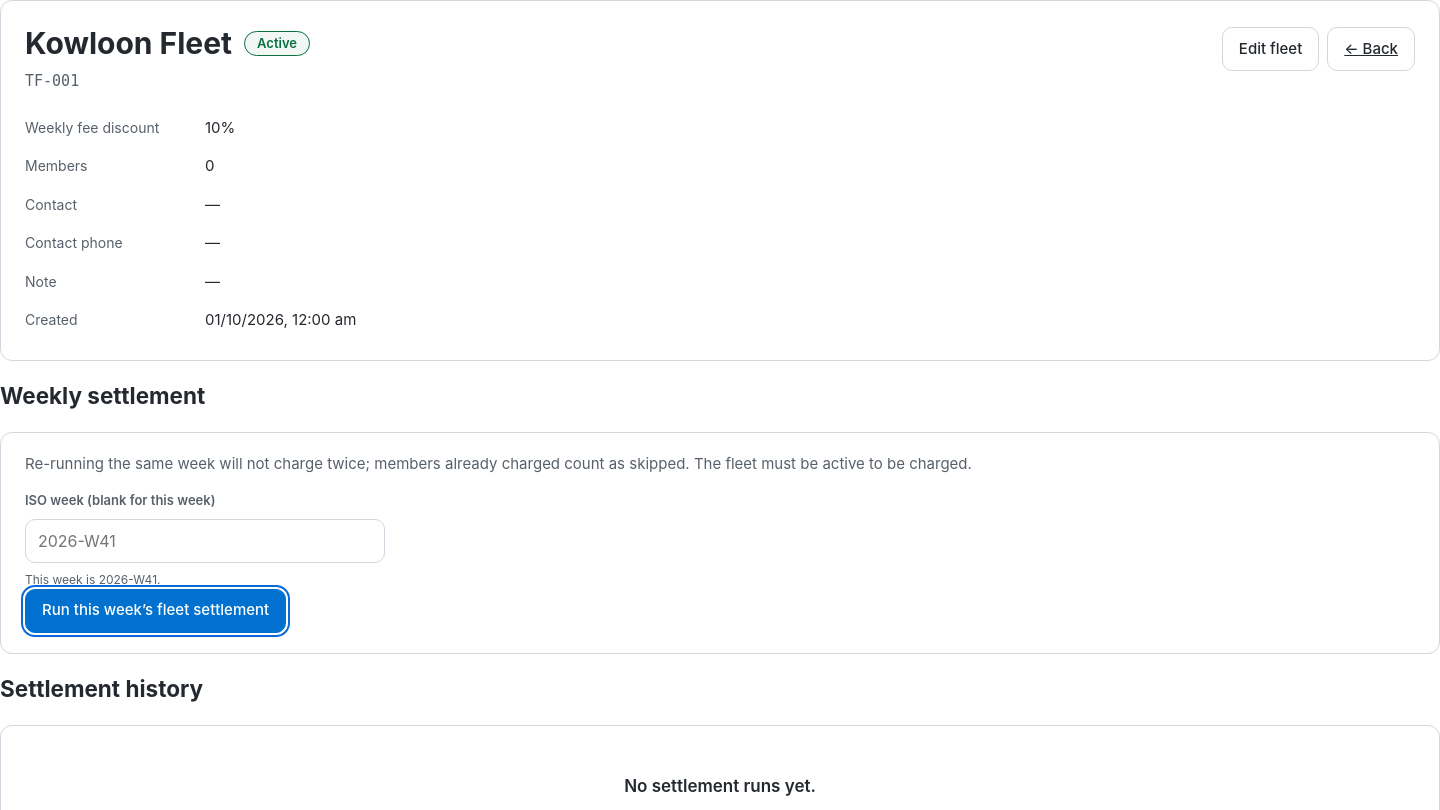
the fleet settlement lever › puts focus back on the lever when the modal closes
Click the button "Run this week’s fleet settlement": (156, 611) x1=25 y1=589 x2=286 y2=633
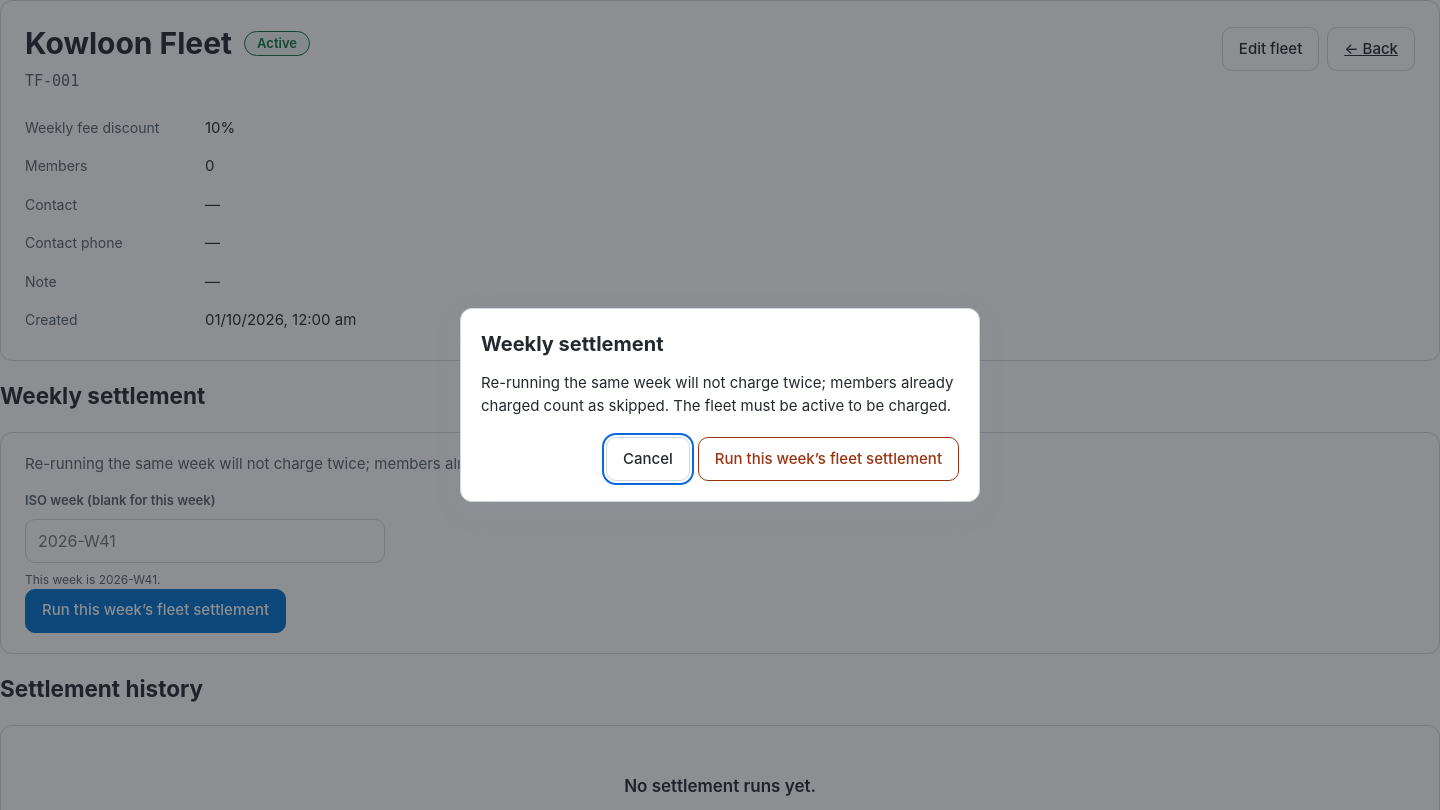
Now the dialog with class "modal" is shown, box x1=460 y1=308 x2=980 y2=502
Click the button "Cancel": (648, 459) x1=606 y1=437 x2=690 y2=481
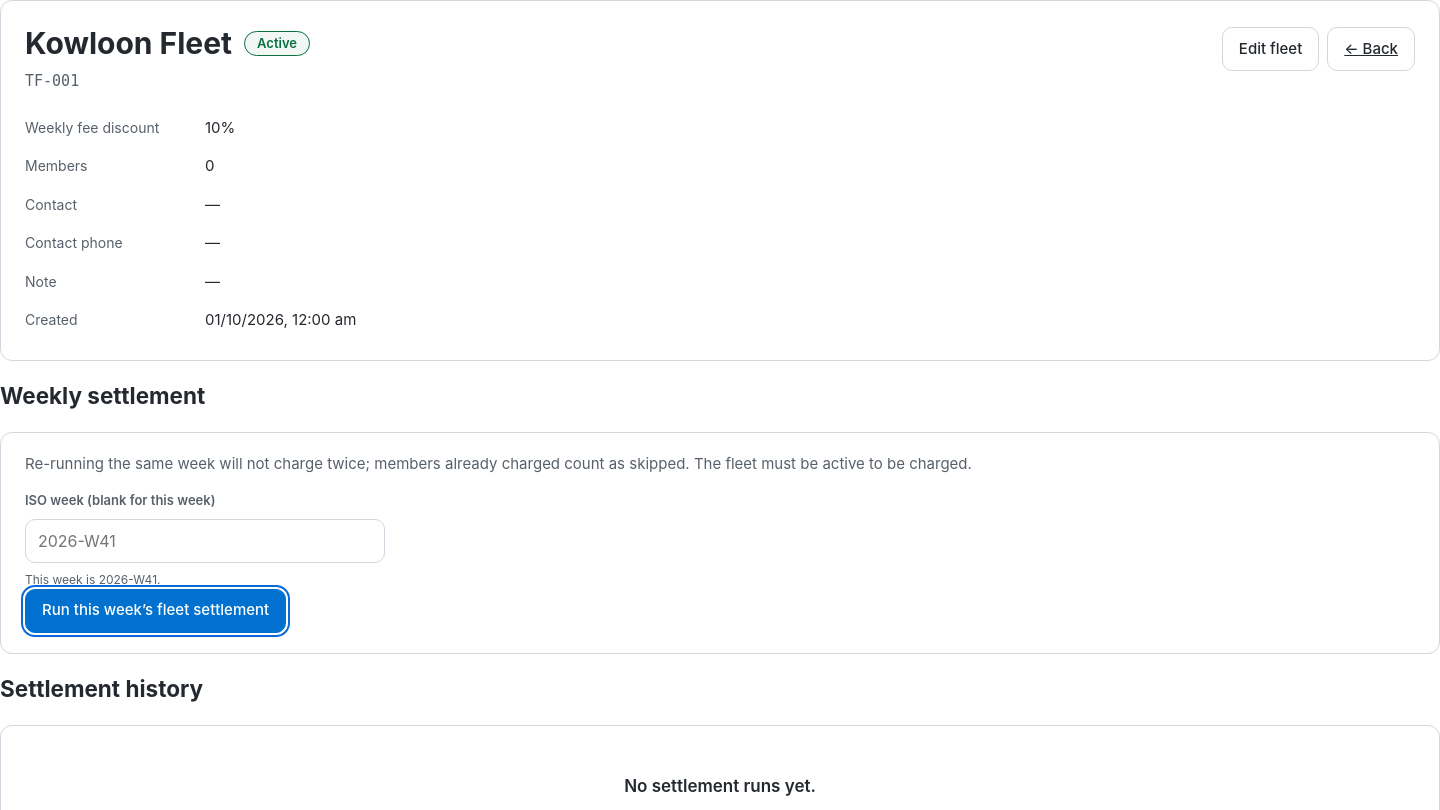
Now the dialog with class "modal" is gone
